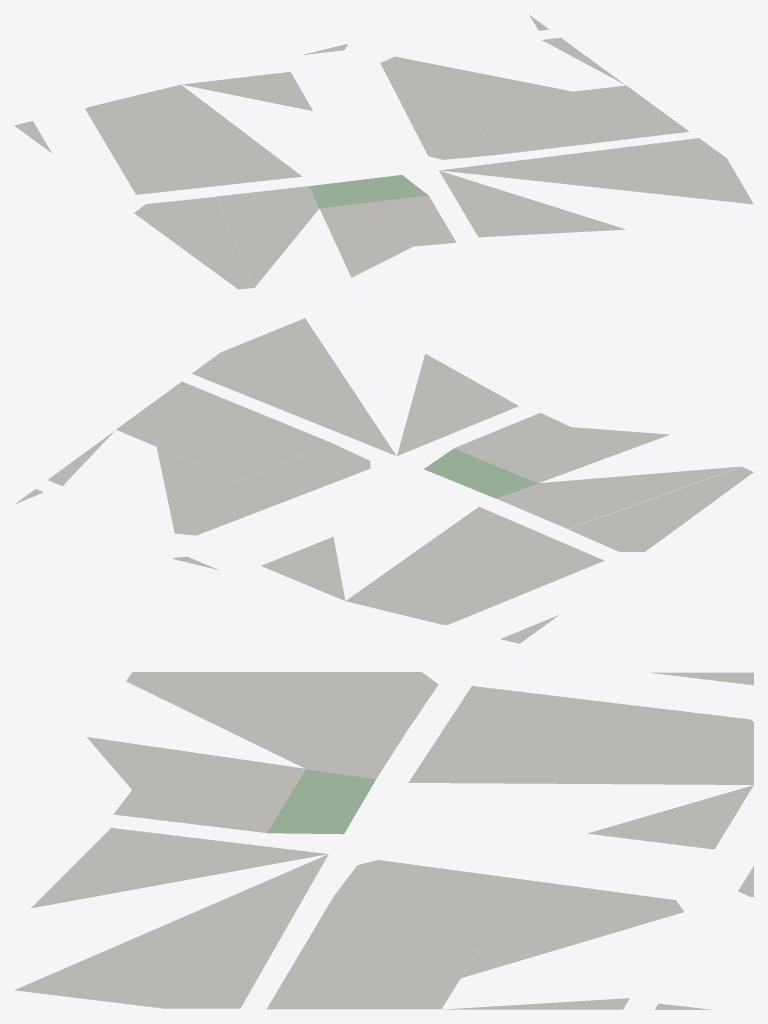
Rendered from 102_97_mid.glb.
3 renders of one model, top to bottom at view 1: azimuth 30°, elevation 25°; view 2: azimuth 150°, elevation 25°; view 3: azimuth 270°, elevation 25°, orthographic. The views are drawn at different scales.
Size of the model in its own units: 500 by 1.23 by 463.
